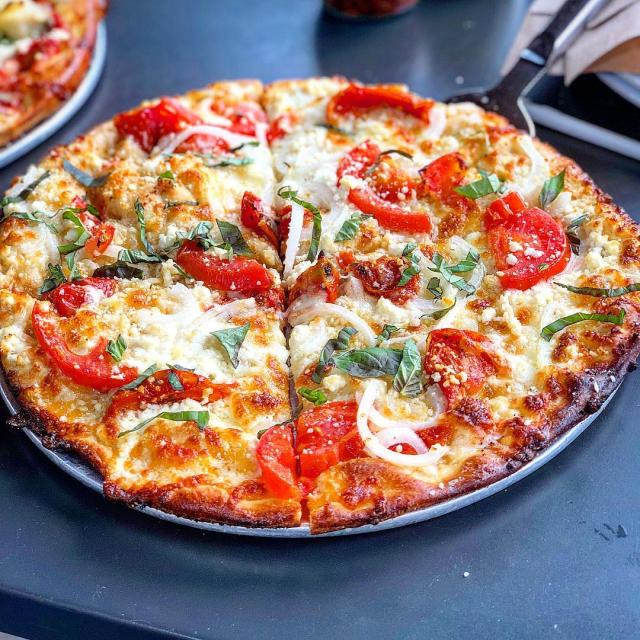basil: (332, 348, 406, 376), (210, 321, 252, 368), (396, 340, 424, 398), (216, 219, 254, 256), (453, 174, 501, 198)
pepperoni: (104, 368, 239, 438), (426, 326, 502, 408), (328, 86, 430, 145), (362, 258, 421, 304)
pizza: (0, 79, 640, 536)
tomatoes: (28, 276, 144, 388), (259, 399, 371, 494), (335, 138, 434, 235), (481, 192, 571, 292), (115, 101, 254, 153), (179, 233, 273, 295), (84, 222, 116, 259), (70, 195, 100, 224)
